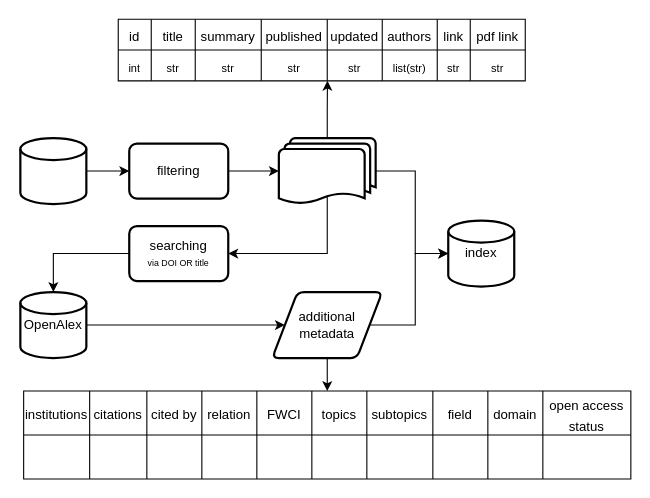
The diagram is 650 pixels wide and 498 high, and some of its shapes have lost their labels. The box of each missing label's shape, as (x1, y1, x2, y2) in pixels:
arXiv: (19, 136, 87, 205)
papers: (277, 136, 376, 205)
